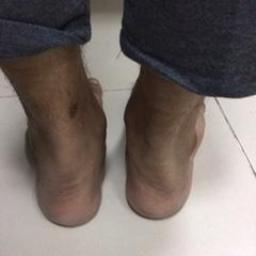Back View -Both Feet-: (9, 56, 224, 232)
